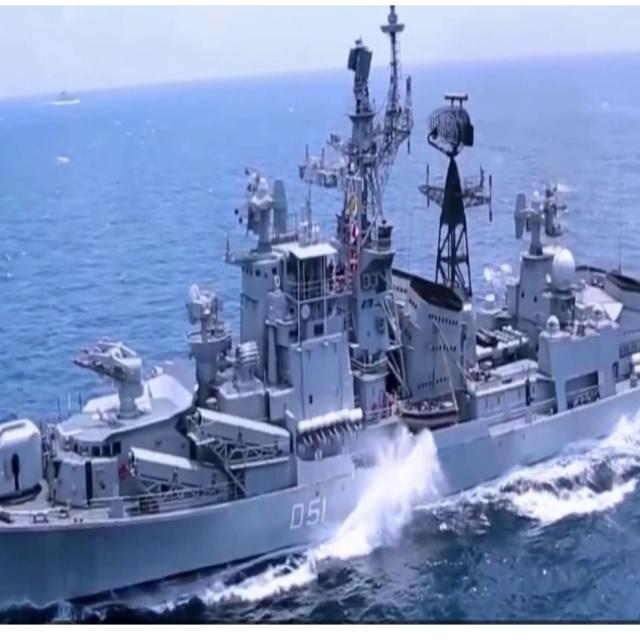OCR: (278, 488, 329, 539)
